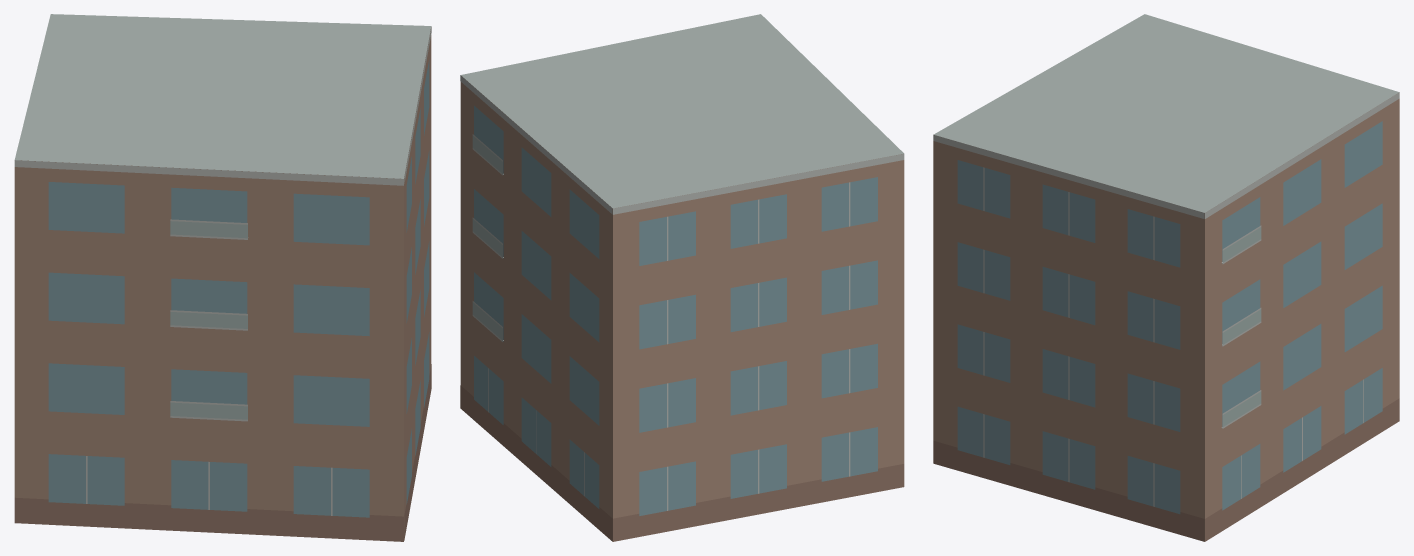
Rendered from survey-upis-32834588.glb.
3 views of the same model, side by side, from view 1: azimuth 30°, elevation 25°; view 2: azimuth 150°, elevation 25°; view 3: azimuth 270°, elevation 25° (orthographic). The views are drawn at different scales.
Visible parts, largest first — view 1: survey-upis-32834588.tmp; view 2: survey-upis-32834588.tmp; view 3: survey-upis-32834588.tmp.
Part boxes in pixels (x1,y1,x2,y2): survey-upis-32834588.tmp: [14, 14, 431, 541]; survey-upis-32834588.tmp: [460, 14, 904, 541]; survey-upis-32834588.tmp: [933, 14, 1399, 541].
Bounding box in the file's own units: 16.62 × 12.8 × 16.45.
